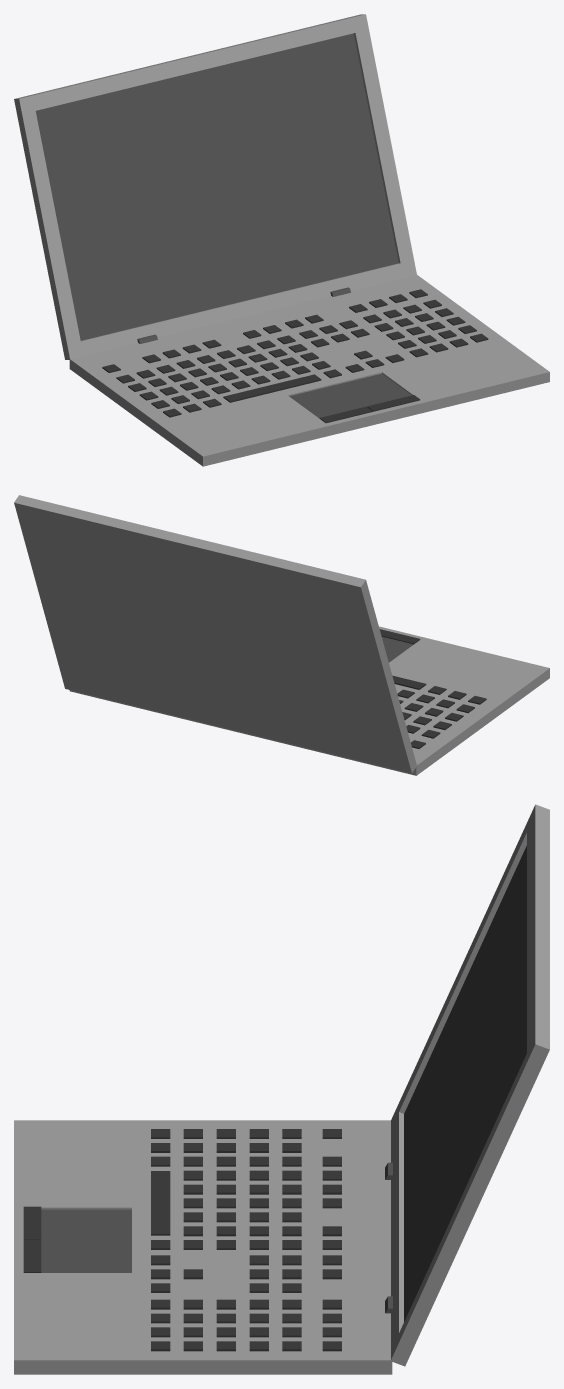
Rendered from SM_Props_Laptop_01.fbx.
The picture shows the model from 3 angles, top to bottom: view 1: azimuth 30°, elevation 25°; view 2: azimuth 150°, elevation 25°; view 3: azimuth 270°, elevation 25°; orthographic projection. The views are drawn at different scales.
Visible parts, largest first — view 1: SM_Props_Laptop_01; view 2: SM_Props_Laptop_01; view 3: SM_Props_Laptop_01.
Part boxes in pixels (x1,y1,x2,y2): SM_Props_Laptop_01: [14, 14, 549, 466]; SM_Props_Laptop_01: [14, 495, 549, 775]; SM_Props_Laptop_01: [14, 804, 549, 1374].
Bounding box in the file's own units: 0.36 × 0.2312 × 0.3399.
